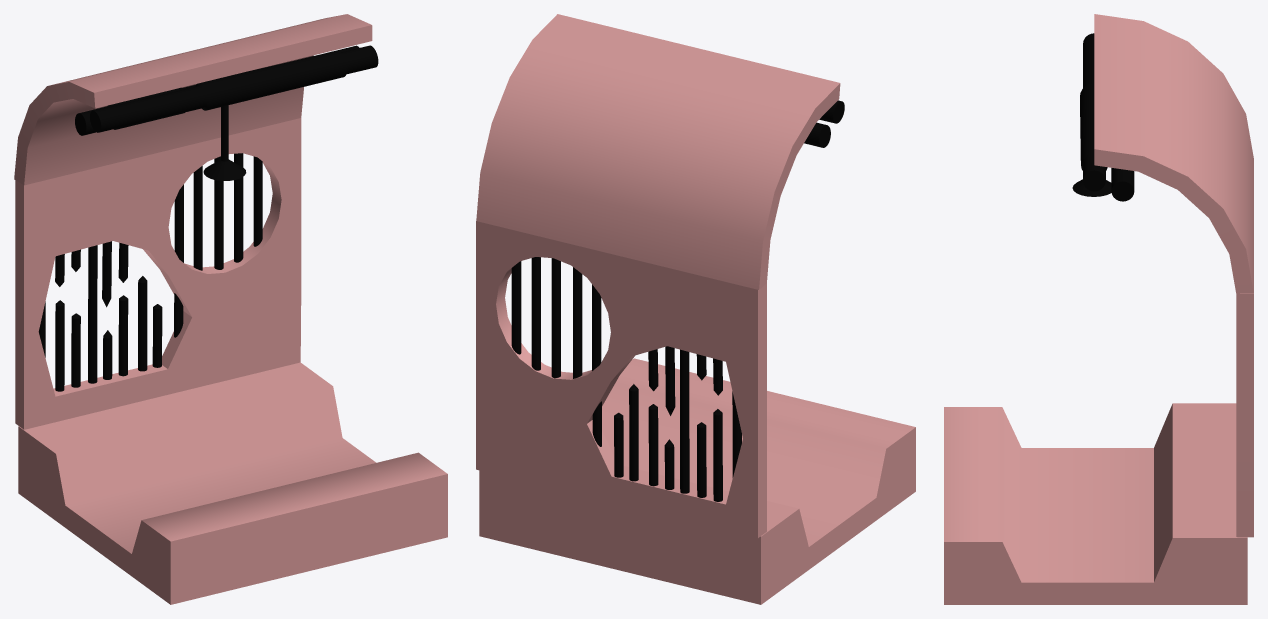
File: sewer_room6.fbx
3 renders of one model, left to right at view 1: azimuth 30°, elevation 25°; view 2: azimuth 150°, elevation 25°; view 3: azimuth 270°, elevation 25°, orthographic. The views are drawn at different scales.
Visible parts, largest first — view 1: room6_walls, room6_metal; view 2: room6_walls, room6_metal; view 3: room6_walls, room6_metal.
Part boxes in pixels (bbox=[...]): room6_walls: bbox=[14, 14, 447, 604]; room6_metal: bbox=[38, 45, 378, 391]; room6_walls: bbox=[476, 14, 915, 604]; room6_metal: bbox=[511, 100, 844, 501]; room6_walls: bbox=[944, 14, 1253, 604]; room6_metal: bbox=[1072, 33, 1134, 201].
Size of the model in its own units: 2.01 by 3.15 by 1.94.
